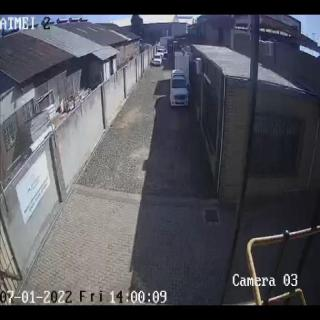car: (171, 72, 188, 106), (150, 54, 162, 66)
